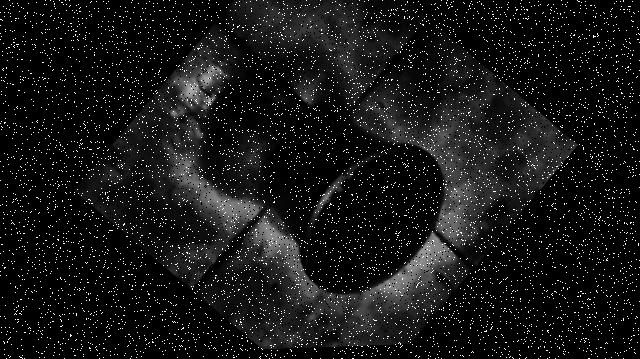pot: (266, 116, 442, 293)
